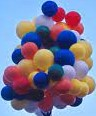Balloon: (33, 49, 52, 68), (54, 77, 72, 93), (70, 43, 87, 59), (13, 77, 30, 93), (74, 60, 89, 78), (41, 1, 58, 16), (48, 64, 64, 79), (33, 72, 49, 87), (65, 10, 80, 25), (21, 42, 36, 57), (4, 66, 20, 80), (1, 85, 15, 100), (37, 26, 49, 37)
